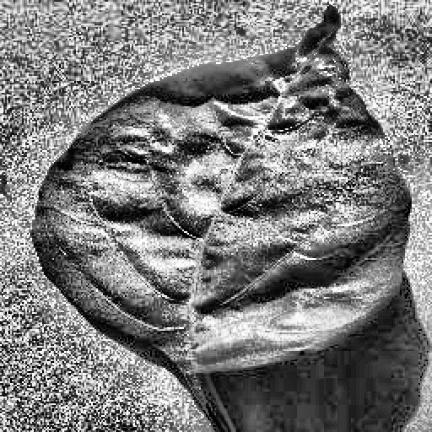leaf: (32, 7, 410, 421)
